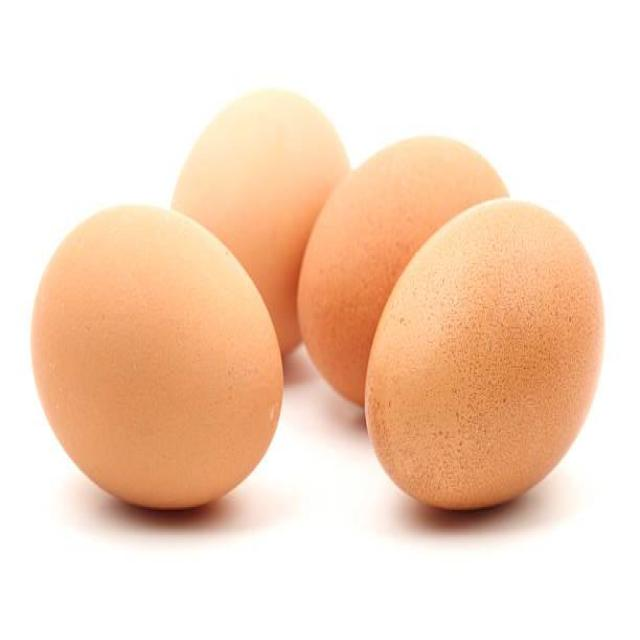Egg: (32, 205, 282, 507), (366, 202, 601, 509), (298, 138, 507, 404), (173, 89, 349, 355)
